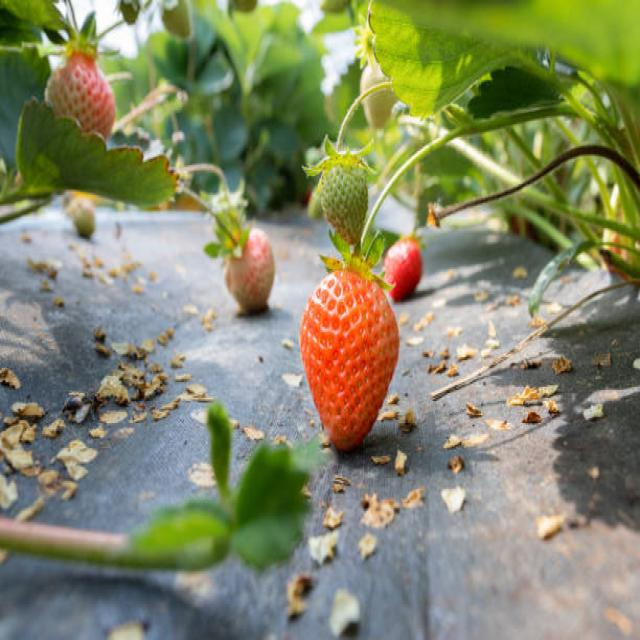Healthy Fruit: (300, 270, 400, 448), (320, 159, 366, 241)
